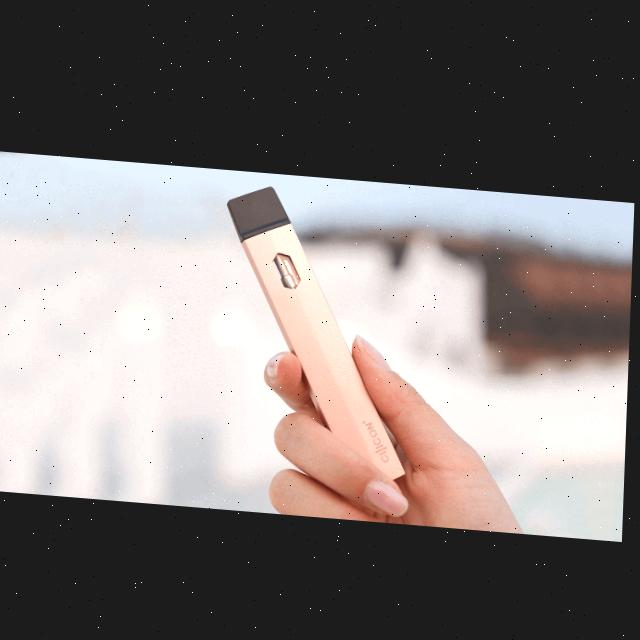vape: (219, 177, 417, 481)
